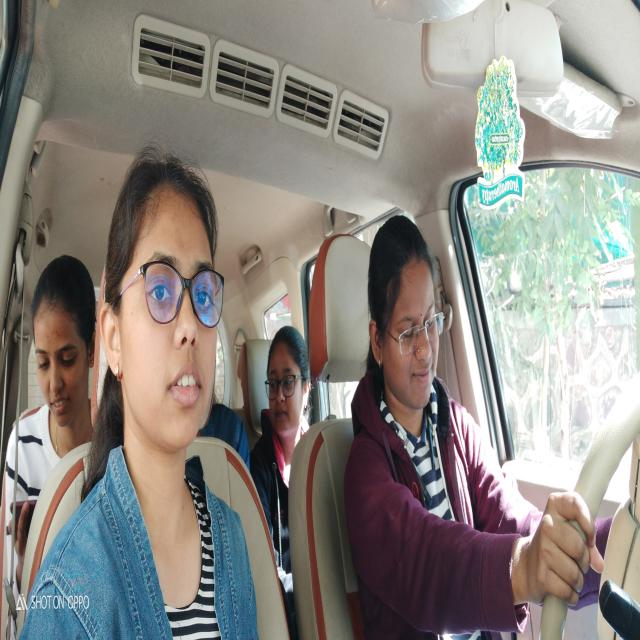drowsy: (368, 226, 440, 412)
person: (103, 166, 220, 448), (31, 284, 91, 428), (265, 328, 309, 436)
